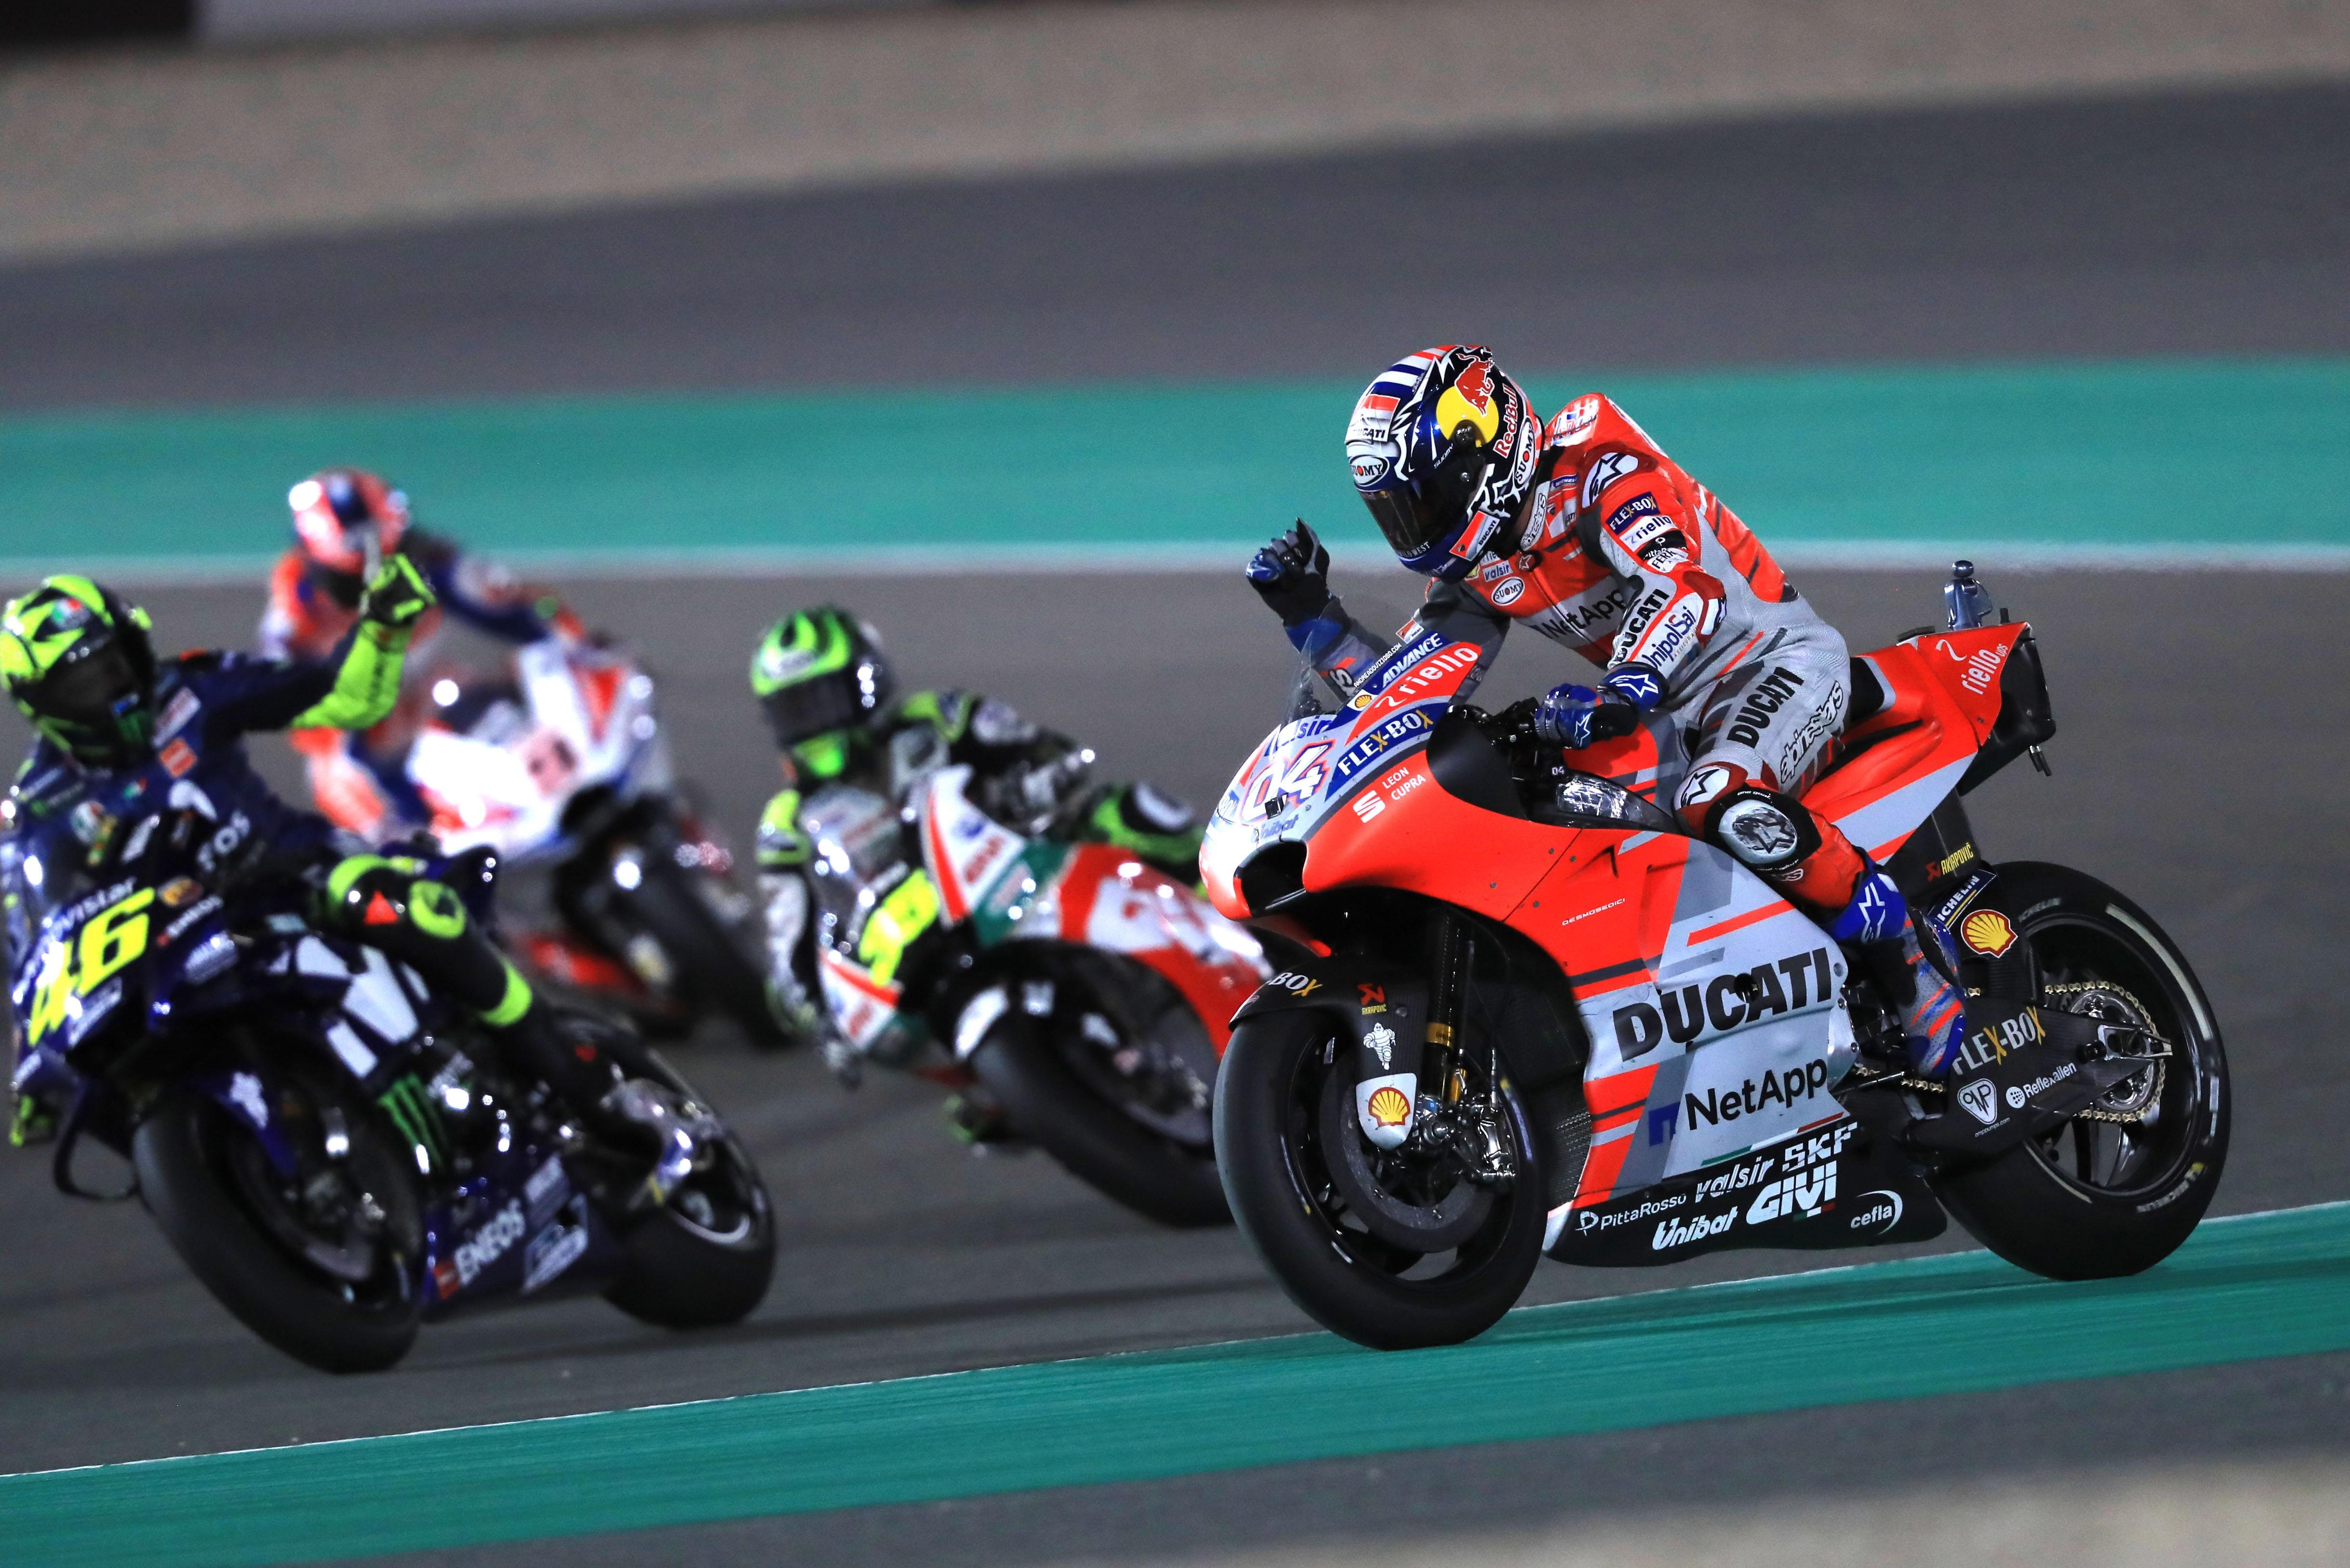helmet: (1324, 311, 1553, 568), (4, 542, 188, 787), (712, 583, 921, 784)
